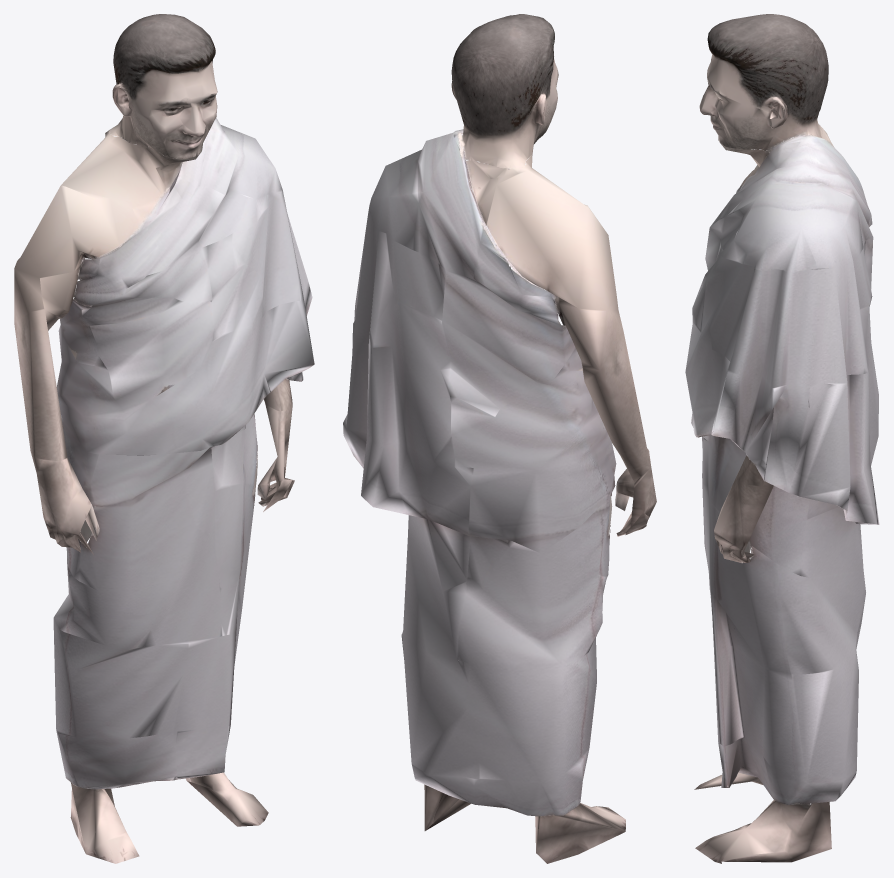
The model's file is man3.glb.
3 views of the same model, side by side, from view 1: azimuth 30°, elevation 25°; view 2: azimuth 150°, elevation 25°; view 3: azimuth 270°, elevation 25° (orthographic).
Visible parts, largest first — view 1: cloth, skin; view 2: cloth, skin; view 3: cloth, skin.
Boxes of the visible parts, bbox=[...] form: cloth: bbox=[53, 117, 314, 789]; skin: bbox=[14, 14, 294, 863]; cloth: bbox=[343, 129, 616, 816]; skin: bbox=[424, 14, 656, 863]; cloth: bbox=[685, 134, 879, 804]; skin: bbox=[694, 14, 834, 863].
Size of the model in its own units: 0.6441 by 1.74 by 0.3762.
2 materials, 2 textured.
